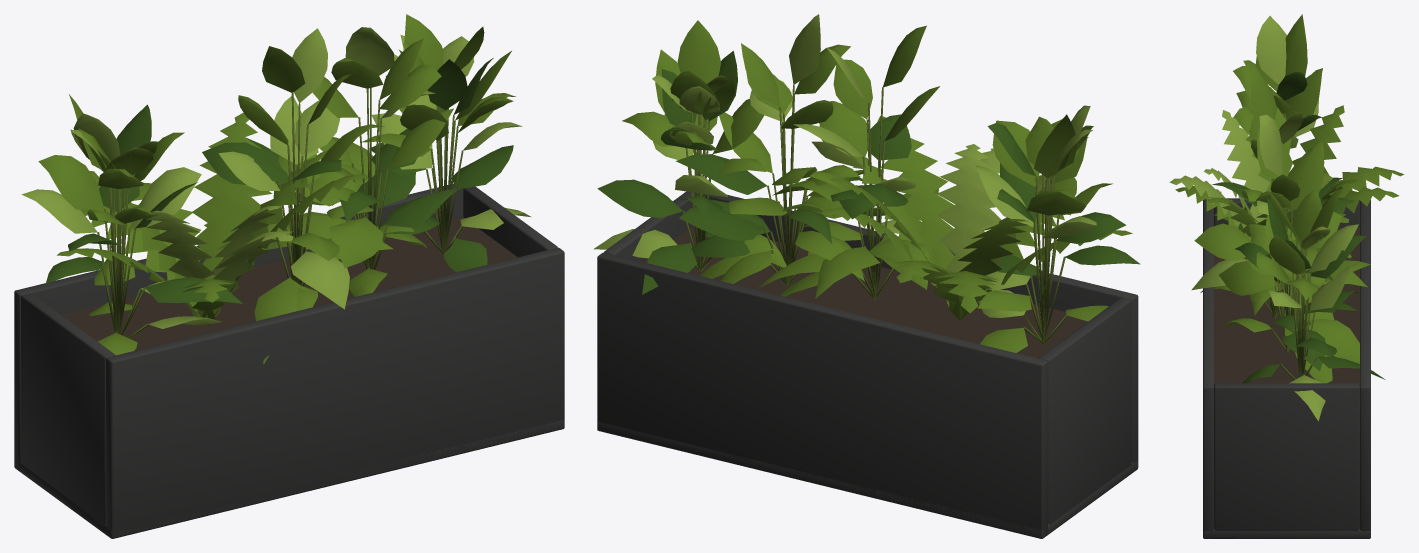
Rendered from greenery.rectangular-planter.glb.
3 renders of one model, left to right at view 1: azimuth 30°, elevation 25°; view 2: azimuth 150°, elevation 25°; view 3: azimuth 270°, elevation 25°, orthographic. The views are drawn at different scales.
Visible parts, largest first — view 1: greenery.rectangular-planter.001; view 2: greenery.rectangular-planter.001; view 3: greenery.rectangular-planter.001.
Part boxes in pixels (<box>): greenery.rectangular-planter.001: <box>14,14,564,538</box>; greenery.rectangular-planter.001: <box>593,14,1140,538</box>; greenery.rectangular-planter.001: <box>1169,14,1404,538</box>.
Size of the model in its own units: 0.92 by 0.72 by 0.42.
